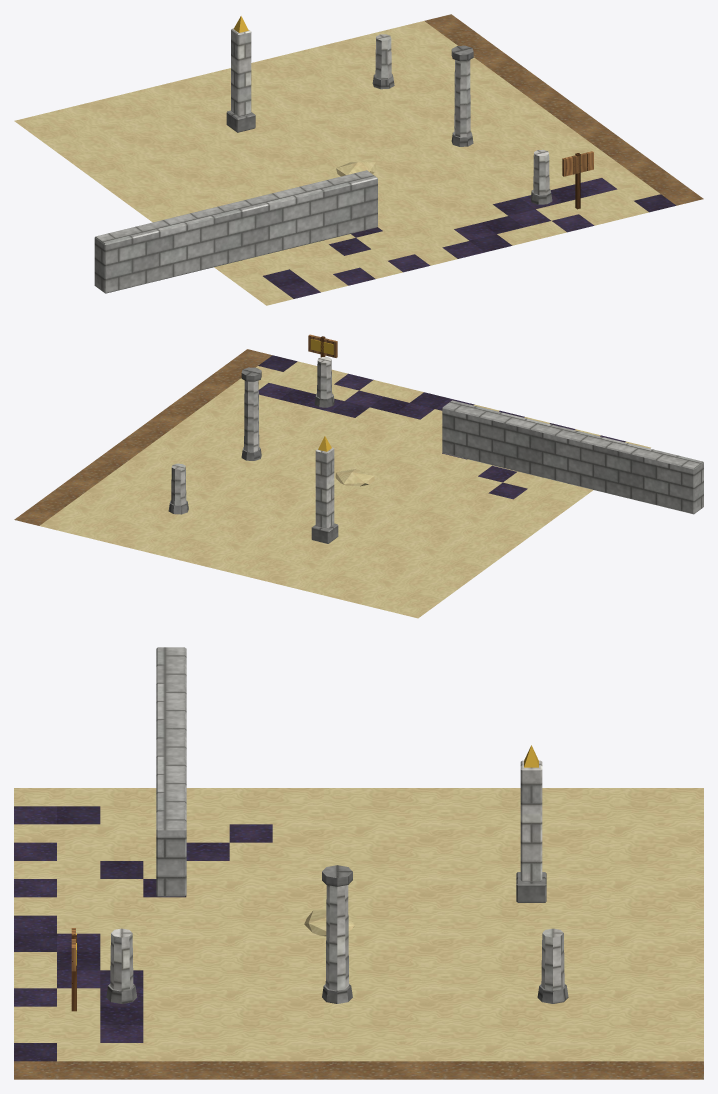
The model's file is chunk_5_21.glb.
3 renders of one model, top to bottom at view 1: azimuth 30°, elevation 25°; view 2: azimuth 150°, elevation 25°; view 3: azimuth 270°, elevation 25°, orthographic. The views are drawn at different scales.
Visible parts, largest first — view 1: chunk_5_21; view 2: chunk_5_21; view 3: chunk_5_21.
Part boxes in pixels (x1,y1,x2,y2): chunk_5_21: [14, 14, 703, 305]; chunk_5_21: [14, 334, 703, 618]; chunk_5_21: [14, 647, 703, 1079].
Size of the model in its own units: 20 by 4.17 by 16.
Materials: 10 (9 with a texture image).
